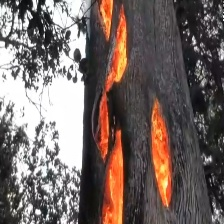fire: (148, 95, 175, 208), (104, 132, 126, 224), (112, 9, 135, 92), (89, 78, 112, 155), (96, 1, 115, 42)
